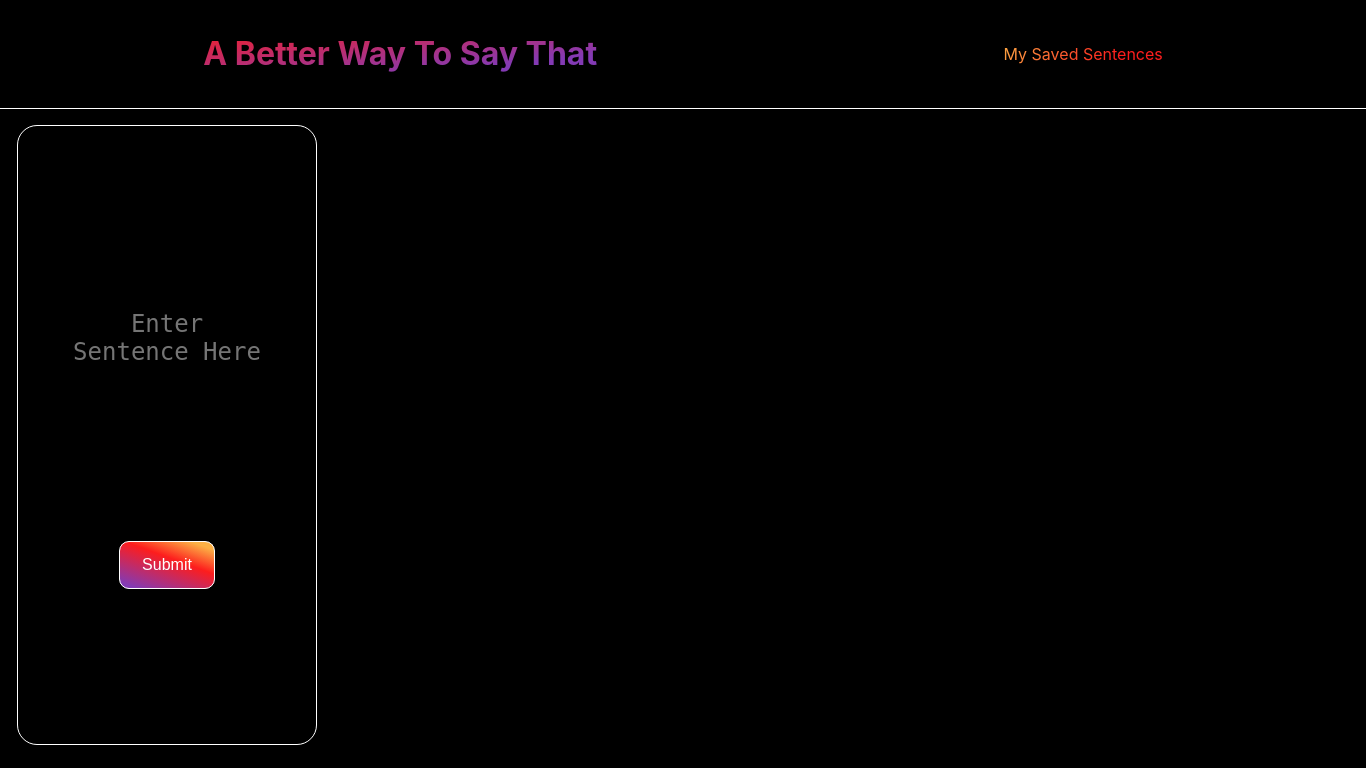
Test case: Submit Sentence › Should be able to submit a positive sentence, click the positive option, and see a new positive sentence
In the text box with placeholder "Enter Sentence Here": (168,333) [39,281,296,384], type "Bunnies make me feel happy calm and ecstatic"
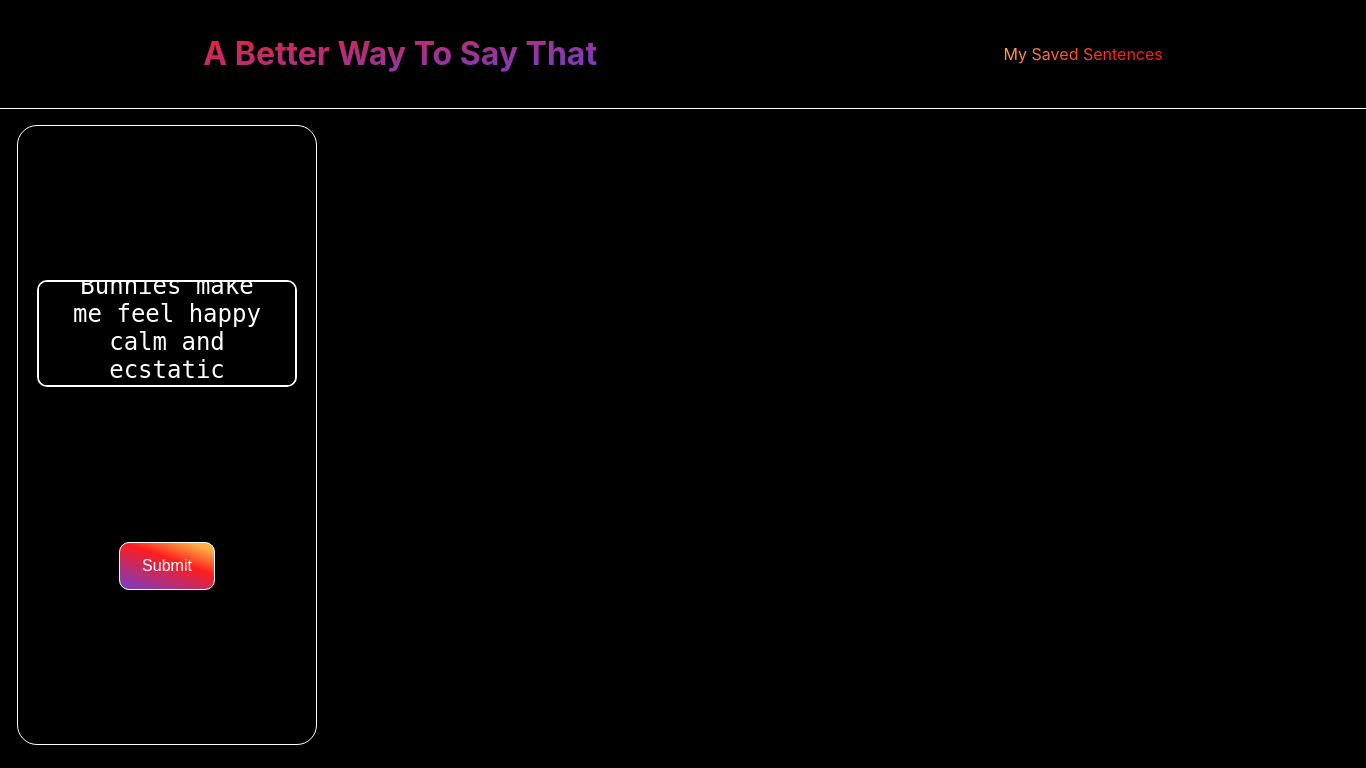
Click the button "Submit": (167,566) [119,542,215,590]
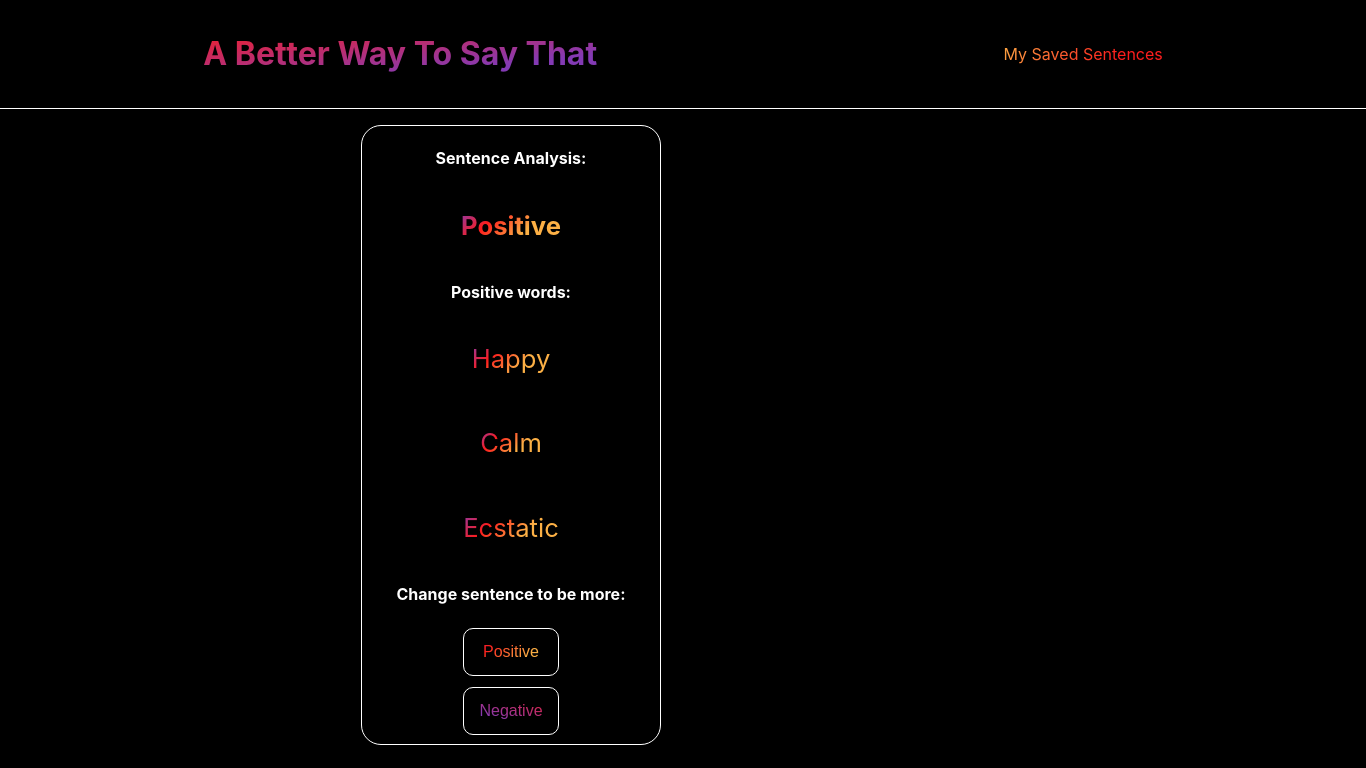
Click the button with class "current-panel" showing "positive": (511,652) [463,628,559,676]
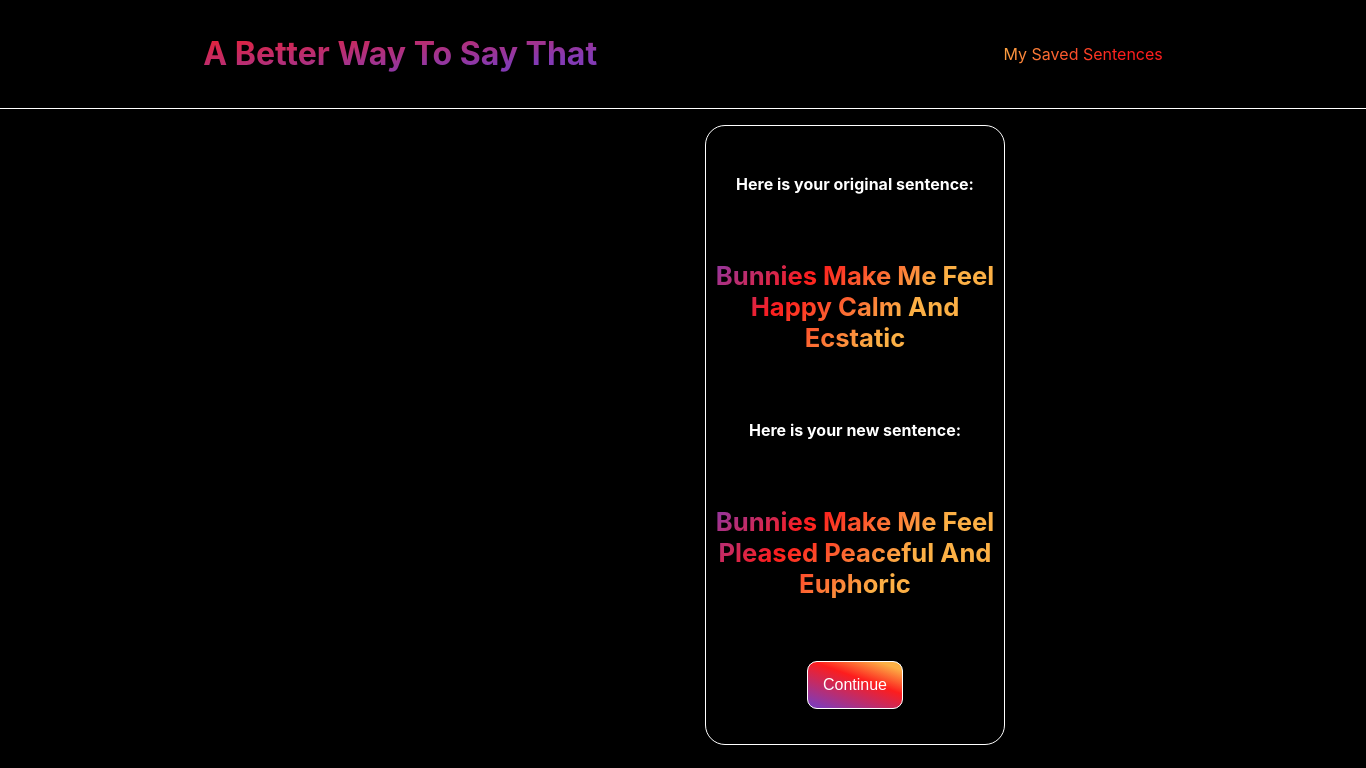
Expected: the button "continue" is shown, [807,661,903,709]
